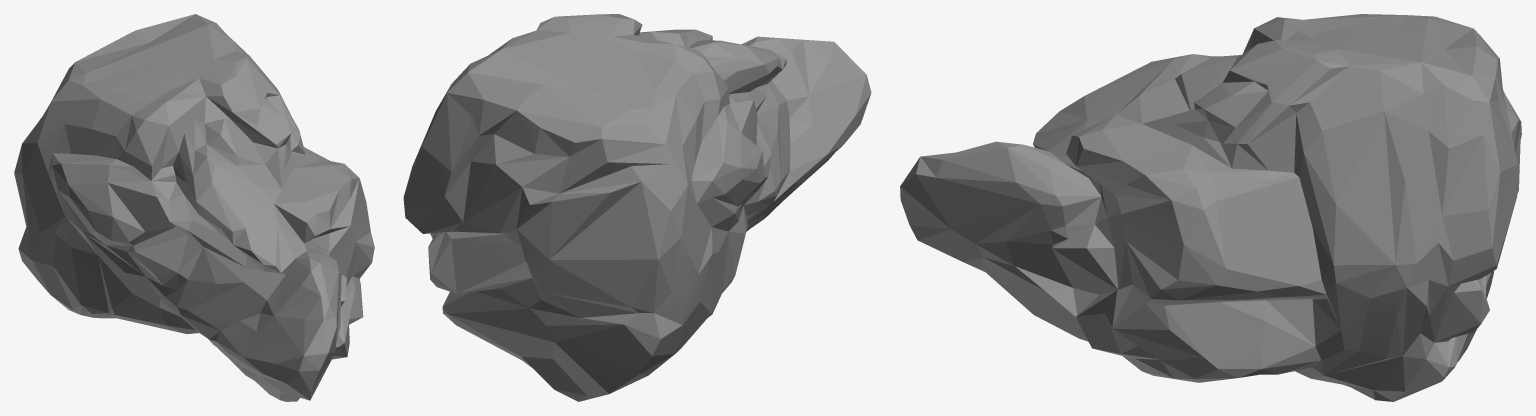
File: Env_Rock_02.fbx
3 renders of one model, left to right at view 1: azimuth 30°, elevation 25°; view 2: azimuth 150°, elevation 25°; view 3: azimuth 270°, elevation 25°, orthographic. The views are drawn at different scales.
Parts seen in each view (by area): view 1: Rock_02; view 2: Rock_02; view 3: Rock_02.
Boxes of the visible parts, x1=… form: Rock_02: x1=14, y1=14, x2=374, y2=401; Rock_02: x1=403, y1=14, x2=871, y2=401; Rock_02: x1=900, y1=14, x2=1521, y2=401.
Size of the model in its own units: 560 by 604 by 1001.
